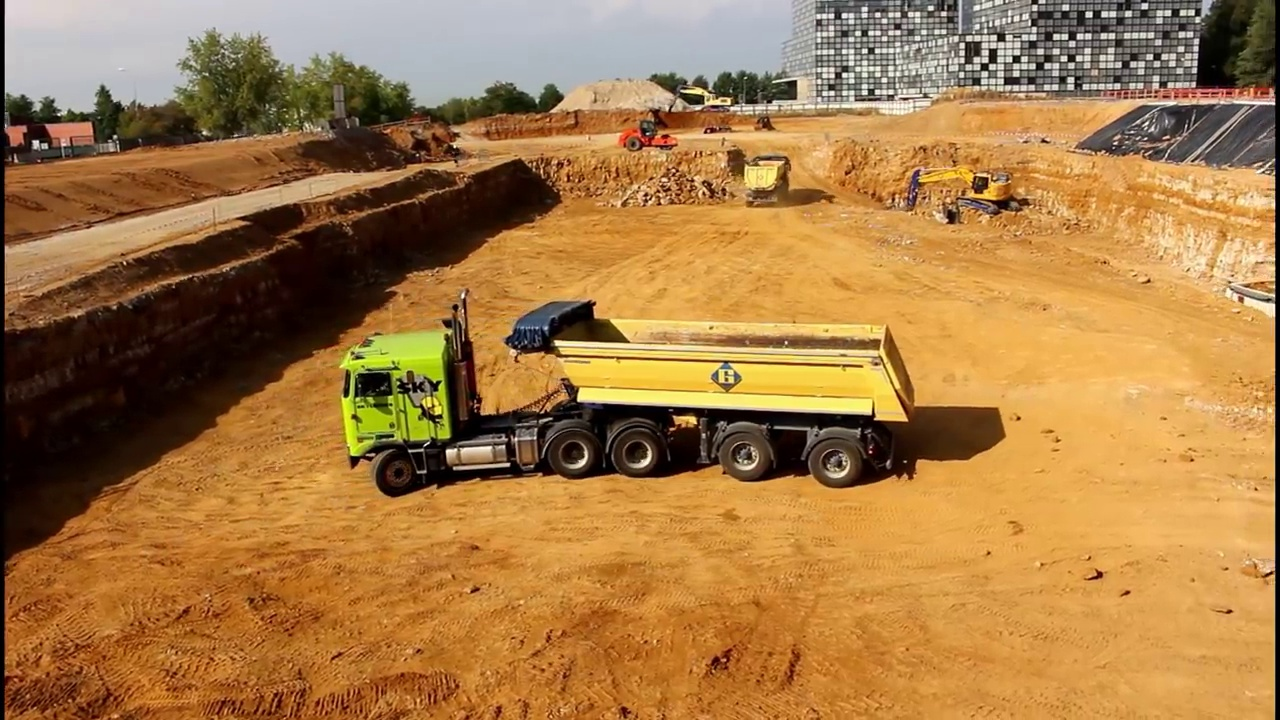compactor: (616, 113, 678, 154)
excavator: (890, 161, 1032, 224), (677, 79, 735, 116)
truck: (328, 283, 923, 500), (737, 147, 802, 212)
